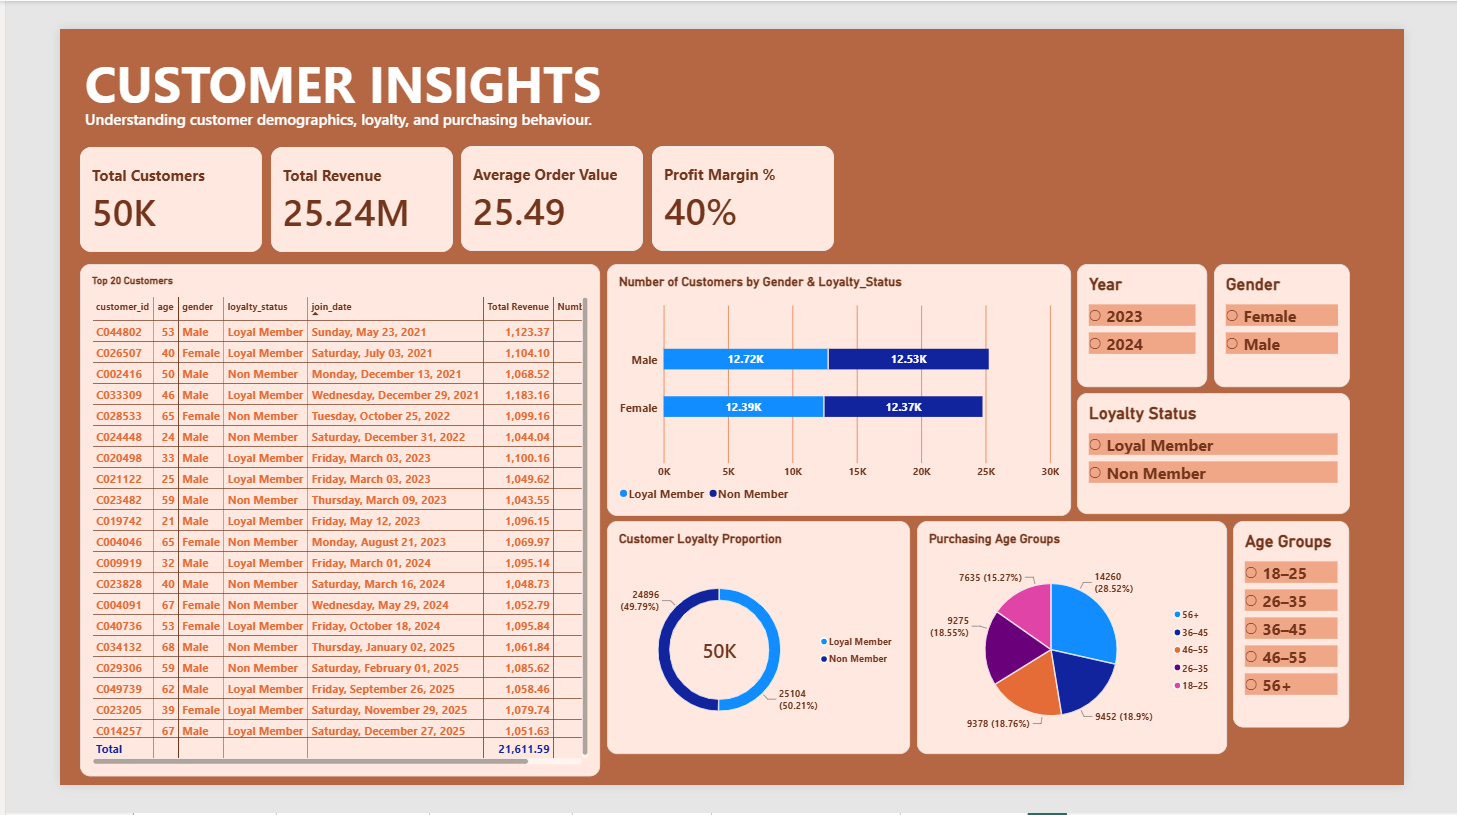

The dashboard page shown, as its layout file describes it:
{"tool":"powerbi","page":{"name":"Customer Insights","canvas":[1920,1080],"ordinal":3},"visuals":[{"type":"textbox","box":[35,20,1248.3,121.7],"z":0},{"type":"textbox","box":[35.7,51.4,810,122.9],"z":1000},{"type":"cardVisual","fields":{"Data":["customers.Total No. of Customers"]},"box":[29.1,168.5,260,150],"z":2000},{"type":"cardVisual","fields":{"Data":["sales.Total Revenue"]},"box":[301,168.6,260,150],"z":3000},{"type":"cardVisual","fields":{"Data":["sales.Average Order Value"]},"box":[572.4,167.1,260,150],"z":4000},{"type":"cardVisual","fields":{"Data":["sales.Profit Margin %"]},"box":[845.9,167.1,260,150],"z":5000},{"type":"tableEx","title":"Top 20 Customers","fields":{"Values":["customers.customer_id","customers.age","customers.gender","customers.loyalty_status ","customers.join_date","sales.Total Revenue","sales.Number of Orders"]},"box":[27.9,335.2,743.5,731.5],"z":6000},{"type":"barChart","title":"Number of Customers by Gender & Loyalty_Status","fields":{"Category":["customers.gender"],"Series":["customers.loyalty_status "],"Y":["CountNonNull(customers.customer_id)"]},"box":[781.4,335.7,662.9,360],"z":7000},{"type":"listSlicer","title":"Year","fields":{"Values":["calendar.year"]},"box":[1452.4,335.2,186.2,175.6],"z":8000},{"type":"listSlicer","title":"Gender","fields":{"Values":["customers.gender"]},"box":[1647.9,335.2,194.2,175.6],"z":9000},{"type":"listSlicer","title":"Loyalty Status","fields":{"Values":["customers.loyalty_status "]},"box":[1452.4,520,389.7,172.9],"z":10000},{"type":"donutChart","title":"Customer Loyalty Proportion","fields":{"Category":["customers.loyalty_status "],"Y":["CountNonNull(customers.loyalty_status )"]},"box":[781.4,702.9,432.9,332.9],"z":11000},{"type":"pieChart","title":"Purchasing Age Groups","fields":{"Category":["customers.age_group"],"Y":["CountNonNull(customers.age_group)"]},"box":[1223.6,702.3,442.9,332.5],"z":12000},{"type":"listSlicer","title":"Age Groups","fields":{"Values":["customers.age_group"]},"box":[1675.9,702.3,166.3,295.3],"z":13000}]}

Visuals, with their boxes in screenshot pixels (x1, y1, x2, y2), scaled from the page's 1920x1080 canvas onto the 1457x815 screenshot:
textbox: <bbox>27, 15, 974, 107</bbox>
textbox: <bbox>27, 39, 642, 132</bbox>
cardVisual - customers.Total No. of Customers: <bbox>22, 127, 219, 240</bbox>
cardVisual - sales.Total Revenue: <bbox>228, 127, 426, 240</bbox>
cardVisual - sales.Average Order Value: <bbox>434, 126, 632, 239</bbox>
cardVisual - sales.Profit Margin %: <bbox>642, 126, 839, 239</bbox>
"Top 20 Customers" tableEx: <bbox>21, 253, 585, 805</bbox>
"Number of Customers by Gender & Loyalty_Status" barChart: <bbox>593, 253, 1096, 525</bbox>
"Year" listSlicer: <bbox>1102, 253, 1243, 385</bbox>
"Gender" listSlicer: <bbox>1251, 253, 1398, 385</bbox>
"Loyalty Status" listSlicer: <bbox>1102, 392, 1398, 523</bbox>
"Customer Loyalty Proportion" donutChart: <bbox>593, 530, 921, 782</bbox>
"Purchasing Age Groups" pieChart: <bbox>929, 530, 1265, 781</bbox>
"Age Groups" listSlicer: <bbox>1272, 530, 1398, 753</bbox>
